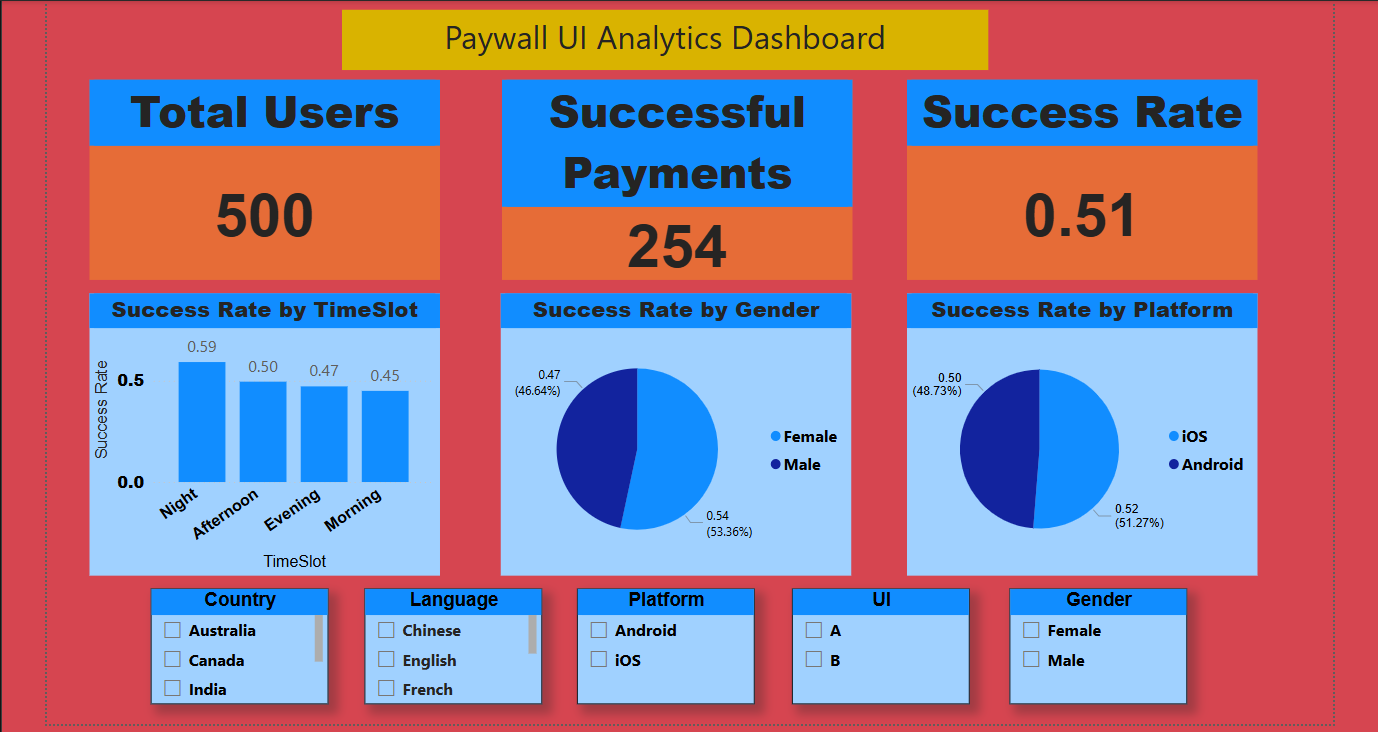

The dashboard page shown, as its layout file describes it:
{"tool":"powerbi","page":{"name":"Executive Summary","canvas":[1280,720],"ordinal":0},"visuals":[{"type":"card","title":"Total Users","fields":{"Values":["users.total_payments"]},"box":[42.1,78.5,349.2,199.1],"z":0},{"type":"card","title":"Success Rate","fields":{"Values":["users.success_rate"]},"box":[855.4,78.5,349.2,199.1],"z":1000},{"type":"card","title":"Successful Payments","fields":{"Values":["users.successful_payments"]},"box":[452.9,78.5,349.2,199.1],"z":2000},{"type":"columnChart","title":"Success Rate by TimeSlot","fields":{"Category":["users.TimeSlot"],"Y":["users.success_rate"]},"box":[42.1,291.7,349.2,280.5],"z":3000},{"type":"pieChart","title":"Success Rate by Gender","fields":{"Category":["users.gender"],"Y":["users.success_rate"]},"box":[451.5,291.7,349.2,280.5],"z":4000},{"type":"pieChart","title":"Success Rate by Platform","fields":{"Y":["users.success_rate"],"Category":["users.platform"]},"box":[855.4,291.7,349.2,280.5],"z":5000},{"type":"textbox","box":[293.6,8.7,643.1,59.7],"z":6000},{"type":"slicer","title":"Country","fields":{"Values":["users.country"]},"box":[103.8,584.8,176.7,115],"z":7000},{"type":"slicer","title":"Language","fields":{"Values":["users.language"]},"box":[315.5,584.8,176.7,115],"z":8000},{"type":"slicer","title":"Platform","fields":{"Values":["users.platform"]},"box":[527.3,584.8,176.7,115],"z":9000},{"type":"slicer","title":"UI","fields":{"Values":["users.ui"]},"box":[741.8,584.8,176.7,115],"z":10000},{"type":"slicer","title":"Gender","fields":{"Values":["users.gender"]},"box":[957.8,584.8,176.7,115],"z":11000}]}

Visuals, with their boxes in screenshot pixels (x1, y1, x2, y2):
"Total Users" card: [left=85, top=104, right=435, bottom=303]
"Success Rate" card: [left=901, top=104, right=1251, bottom=303]
"Successful Payments" card: [left=497, top=104, right=847, bottom=303]
"Success Rate by TimeSlot" columnChart: [left=85, top=318, right=435, bottom=599]
"Success Rate by Gender" pieChart: [left=496, top=318, right=846, bottom=599]
"Success Rate by Platform" pieChart: [left=901, top=318, right=1251, bottom=599]
textbox: [left=337, top=34, right=982, bottom=94]
"Country" slicer: [left=147, top=611, right=324, bottom=727]
"Language" slicer: [left=359, top=611, right=537, bottom=727]
"Platform" slicer: [left=572, top=611, right=749, bottom=727]
"UI" slicer: [left=787, top=611, right=964, bottom=727]
"Gender" slicer: [left=1003, top=611, right=1181, bottom=727]
